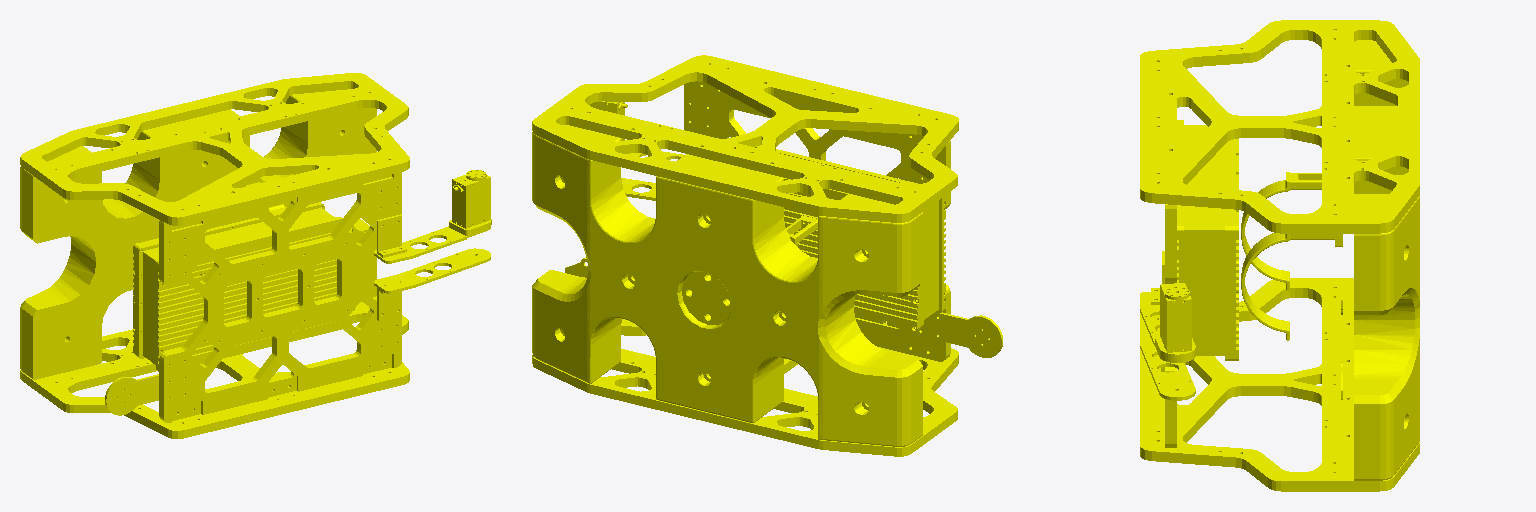
URDF robot description (underwater_robot):
<?xml version="1.0"?>
<robot name="underwater_robot">

  <!-- Original URDF content -->
  <link name="base_link">
    <inertial>
      <origin xyz="-0.00388812346992118 0.214797507718185 0.000476870940854357" rpy="0 0 0" />
      <mass value="21.9611699884002" />
      <inertia ixx="0.23895137440233" ixy="-6.02120687701648E-05" ixz="6.67278401351575E-08" iyy="0.743447355689122" iyz="1.63793544263822E-06" izz="0.621848783014161" />
    </inertial>
    <visual>
      <origin xyz="0 0 0" rpy="0 0 0" />
      <geometry>
        <mesh filename="package://underwater_robot/meshes/base_link.STL" />
      </geometry>
      <material name="">
        <color rgba="0.988235294117647 1 0 1" />
      </material>
    </visual>
    <collision>
      <origin xyz="0 0 0" rpy="0 0 0" />
      <geometry>
        <mesh filename="package://underwater_robot/meshes/base_link.STL" />
      </geometry>
    </collision>
  </link>

  <!-- Simplified test model - other links can be added here -->
  
  <!-- uuv_simulator hydrodynamics plugin -->
  <gazebo>
    <plugin name="uuv_plugin" filename="libuuv_underwater_object_ros_plugin.so">
      <fluid_density>1028.0</fluid_density>
      <volume>0.05</volume>
      <bbox_height>0.5</bbox_height>
      <bbox_length>1.0</bbox_length>
      <bbox_width>0.8</bbox_width>
      <hydro_model_type>fossen</hydro_model_type>
      <added_mass>
        <x>30</x> <y>30</y> <z>30</z>
        <roll>5</roll> <pitch>5</pitch> <yaw>5</yaw>
      </added_mass>
      <linear_damping>
        <x>15</x> <y>15</y> <z>15</z>
      </linear_damping>
      <angular_damping>
        <x>15</x> <y>15</y> <z>15</z>
      </angular_damping>
      <center_of_buoyancy>
        <x>0</x> <y>0</y> <z>0.05</z>
      </center_of_buoyancy>
      <neutrally_buoyant>false</neutrally_buoyant>
    </plugin>
  </gazebo>

</robot>

--- Render facts (derived) ---
Views: 3 orthographic renders of the robot side by side, from view 1: azimuth 30°, elevation 25°; view 2: azimuth 150°, elevation 25°; view 3: azimuth 270°, elevation 25°.
Model underwater_robot with 1 links and 0 joints (none), rooted at base_link, posed every joint at zero.
Visible links, largest first — view 1: base_link; view 2: base_link; view 3: base_link.
Link boxes in pixels (x1,y1,x2,y2): base_link: [20, 73, 491, 438]; base_link: [532, 55, 1002, 456]; base_link: [1140, 20, 1419, 491].
Size in the robot's own frame: 0.7243 by 0.38 by 0.4 metres.
Meshes: 1 distinct files referenced, 1 mesh visuals loaded (1 binary STL).
